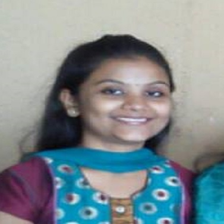no_mask: (81, 63, 170, 143)
